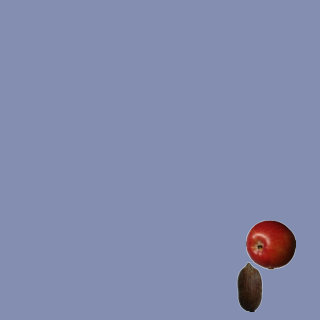Apple Braeburn: (245, 219, 295, 269)
Nut Pecan: (224, 261, 274, 311)
